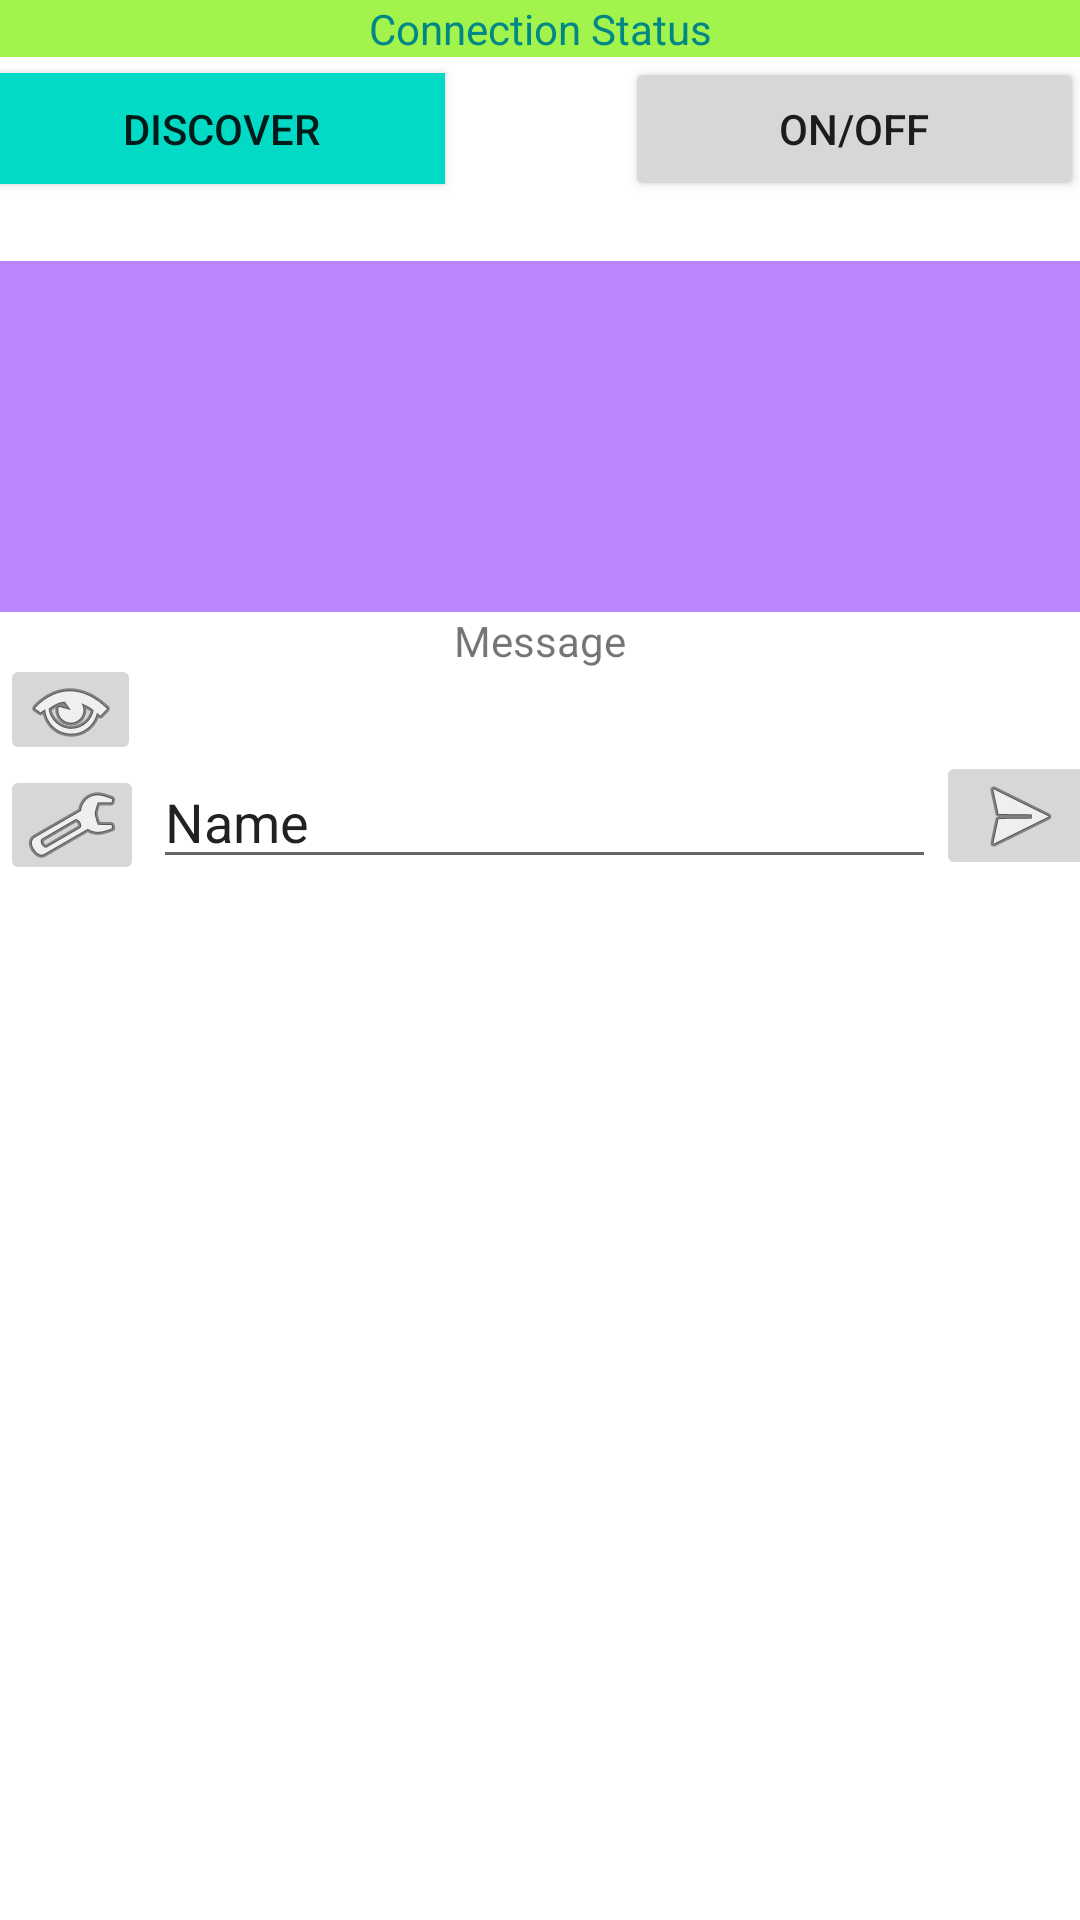

Named icons in this screenshot (1080w x 1920h) and their bounding boxes, [x1,y1,x2,y2]:
preferences: [12,783,132,867]
view: [12,672,129,747]
